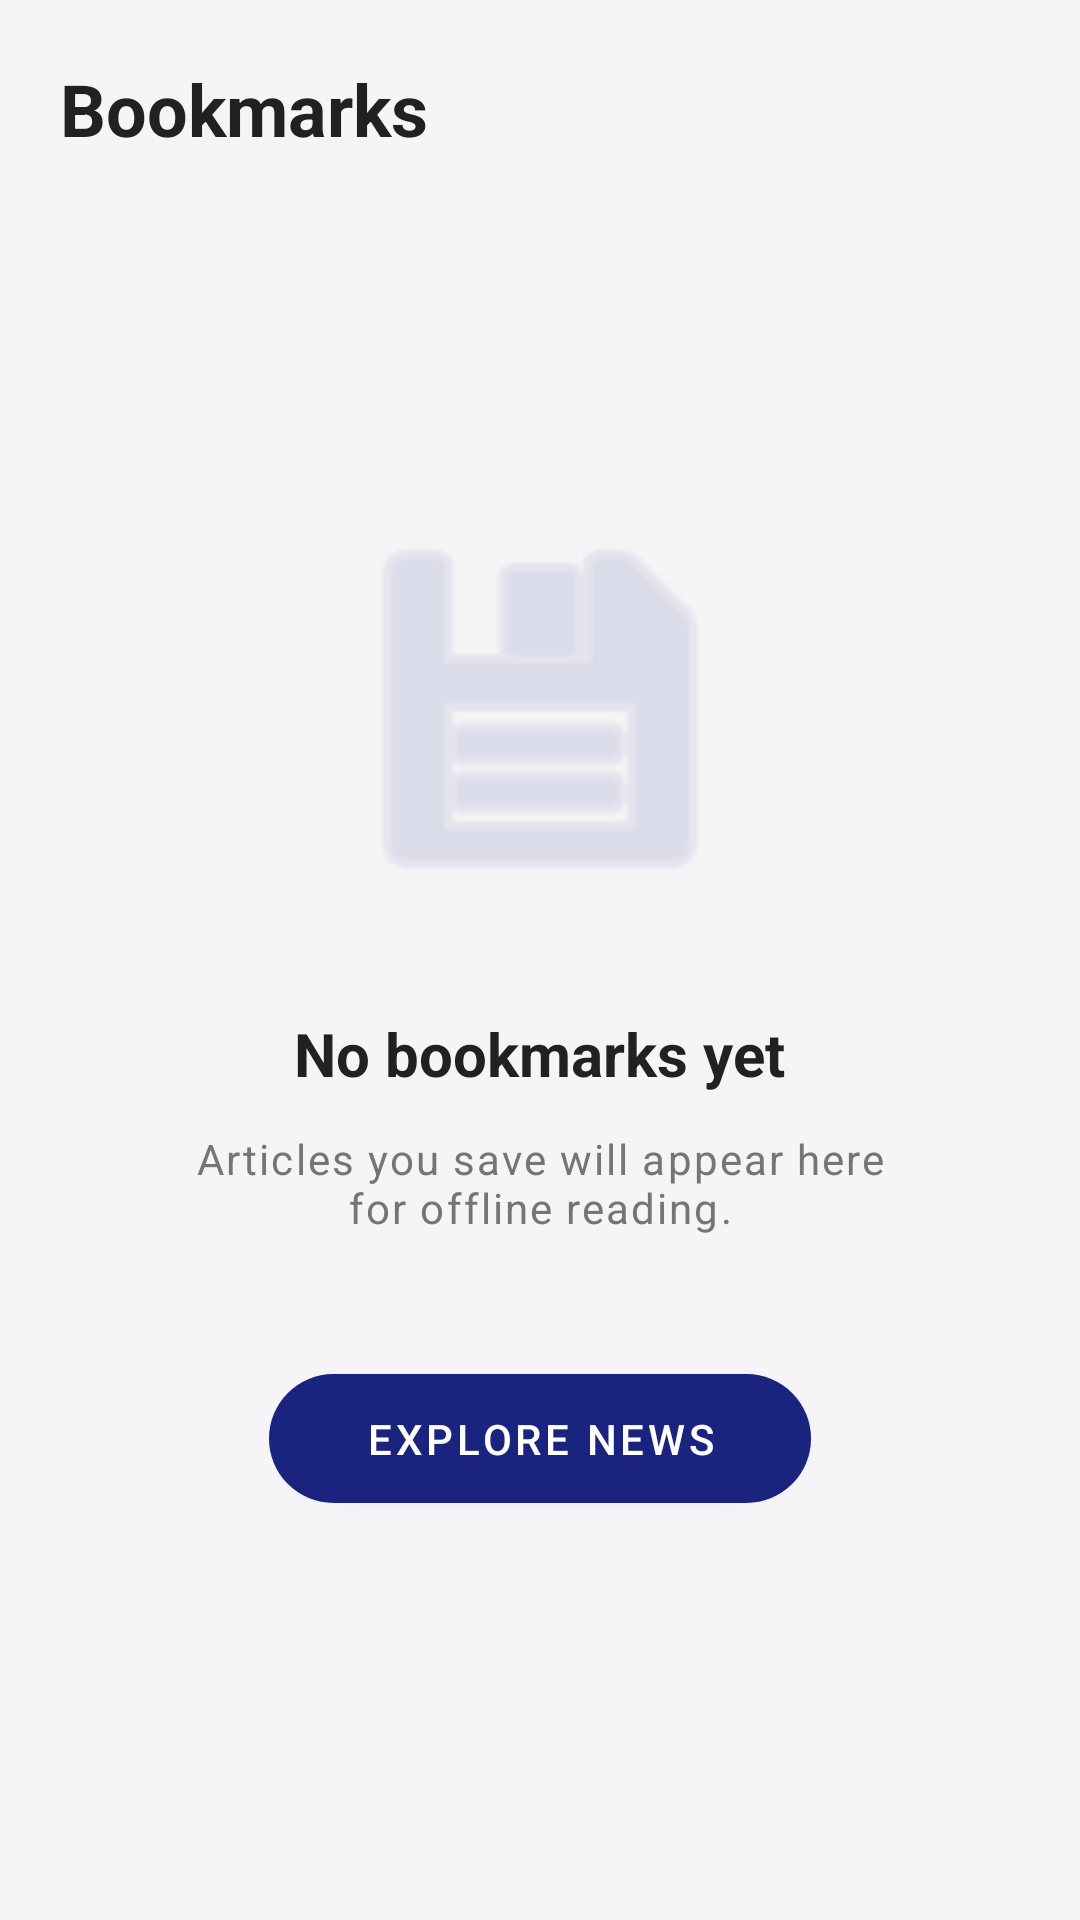

Icons on this 1080*1920 Android screen, each with its box as (x1, y1, x2, y2):
save: (393, 560, 687, 858)
